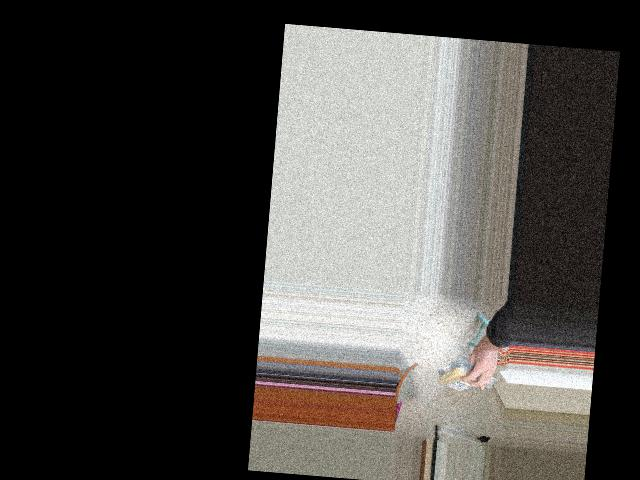cheese: (437, 363, 490, 393)
